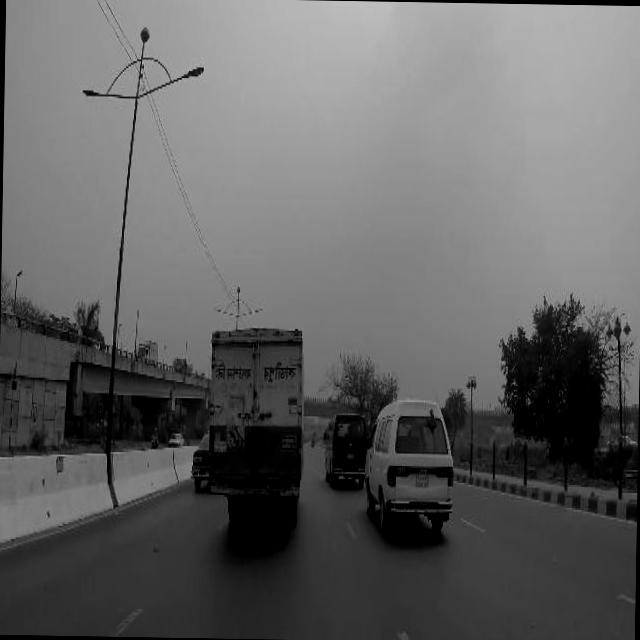car: (169, 430, 185, 446)
motorcycle: (152, 424, 159, 446)
truck: (206, 322, 308, 524), (363, 395, 458, 532), (324, 409, 370, 486), (134, 336, 160, 359)
